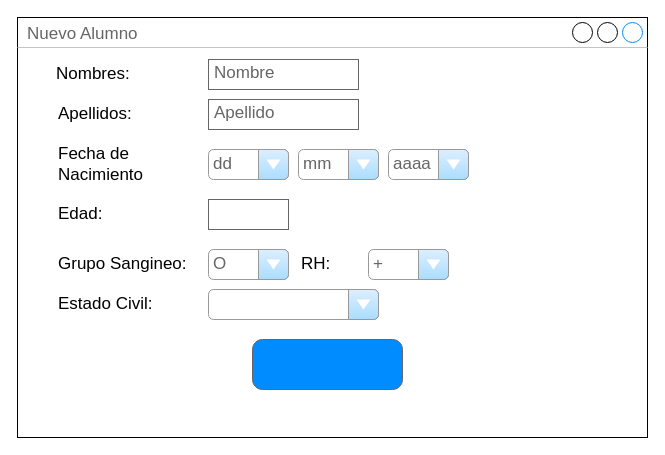
This 665x455 diagram has some shape labels left out. The centre of each missing label's shape, as x and y in pixels:
"edad" belongs at (248,214).
"Guardar" belongs at (327,364).
"Soltero" belongs at (293,304).
